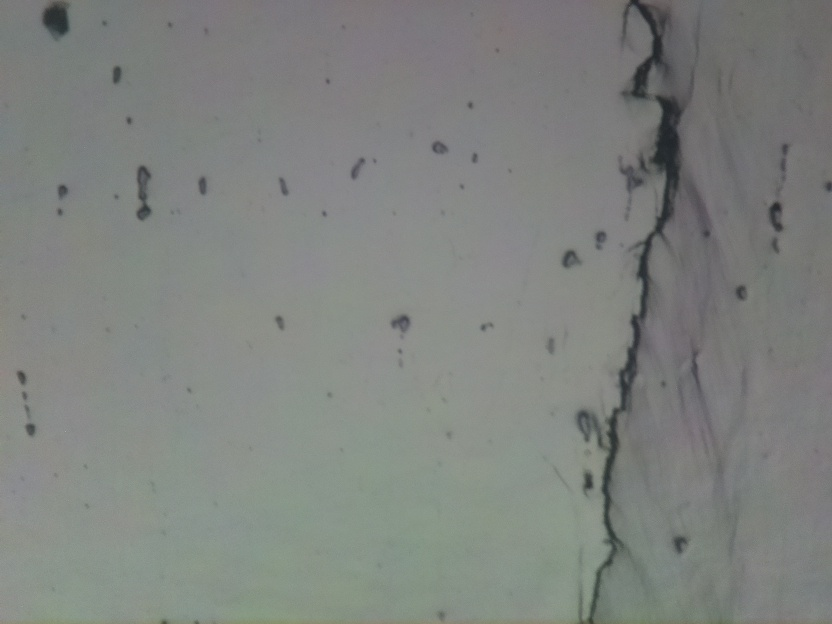crack: (578, 6, 683, 624)
